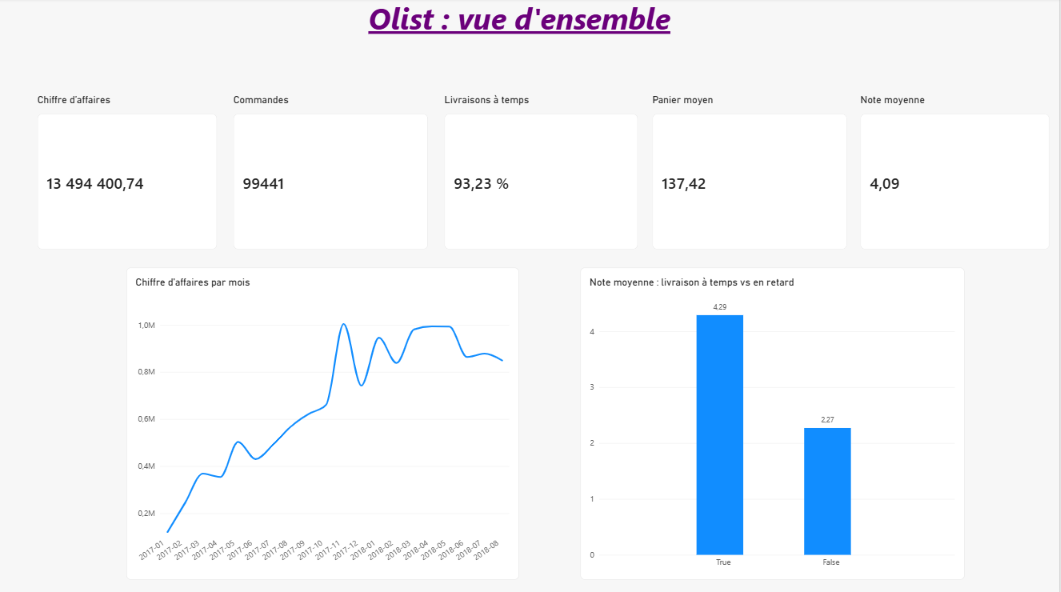

Layout of this report page (visuals, bound fields, positions):
{"tool":"powerbi","page":{"name":"Executive","canvas":[1920,1080],"ordinal":0},"visuals":[{"type":"clusteredColumnChart","title":"Note moyenne : livraison à temps vs en retard","fields":{"Category":["dw fact_orders.is_on_time"],"Y":["_Mesures.Note moyenne"]},"box":[1053.2,488.6,694.9,564.6],"z":0},{"type":"lineChart","title":"Chiffre d''affaires par mois","fields":{"Category":["dw dim_date.year_month"],"Y":["_Mesures.CA"]},"box":[231.6,488.6,710,565],"z":1},{"type":"textbox","box":[667.5,0,550,77.5],"z":2},{"type":"cardVisual","title":"Chiffre d’affaires","fields":{"Data":["_Mesures.CA"]},"box":[70,174.5,325,282.5],"z":3},{"type":"cardVisual","title":"Commandes","fields":{"Data":["_Mesures.Commandes"]},"box":[425.3,173.7,352.5,282.5],"z":4},{"type":"cardVisual","title":"Livraisons à temps","fields":{"Data":["_Mesures.Taux livraison à temps"]},"box":[807.1,173.7,350,282.5],"z":5},{"type":"cardVisual","title":"Note moyenne","fields":{"Data":["_Mesures.Note moyenne"]},"box":[1559.9,173.7,342.5,282.5],"z":6},{"type":"cardVisual","title":"Panier moyen","fields":{"Data":["_Mesures.Panier moyen"]},"box":[1183.5,173.7,352.9,282.3],"z":7}]}

Visuals, with their boxes in screenshot pixels (x1, y1, x2, y2), scaled from the page's 1920x1080 canvas onto the 1061x592 screenshot:
"Note moyenne : livraison à temps vs en retard" clusteredColumnChart: box(582, 268, 966, 577)
"Chiffre d''affaires par mois" lineChart: box(128, 268, 520, 578)
textbox: box(369, 0, 673, 42)
"Chiffre d’affaires" cardVisual: box(39, 96, 218, 251)
"Commandes" cardVisual: box(235, 95, 430, 250)
"Livraisons à temps" cardVisual: box(446, 95, 639, 250)
"Note moyenne" cardVisual: box(862, 95, 1051, 250)
"Panier moyen" cardVisual: box(654, 95, 849, 250)
